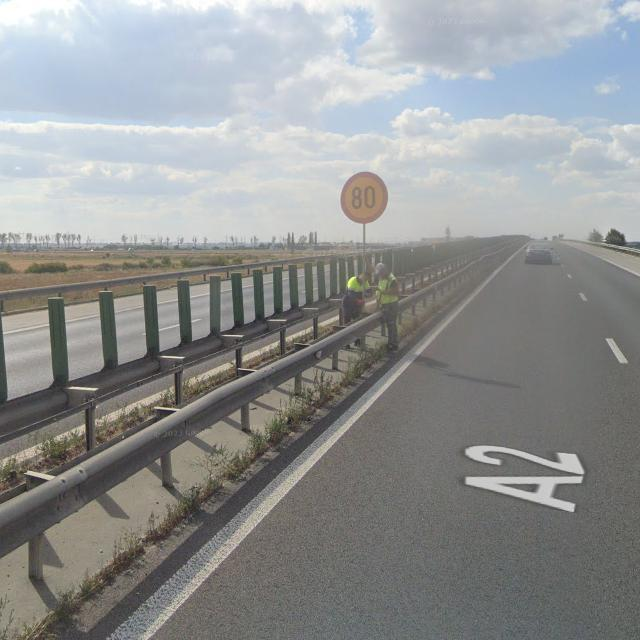forb_speed_over_80: (340, 171, 390, 224)
